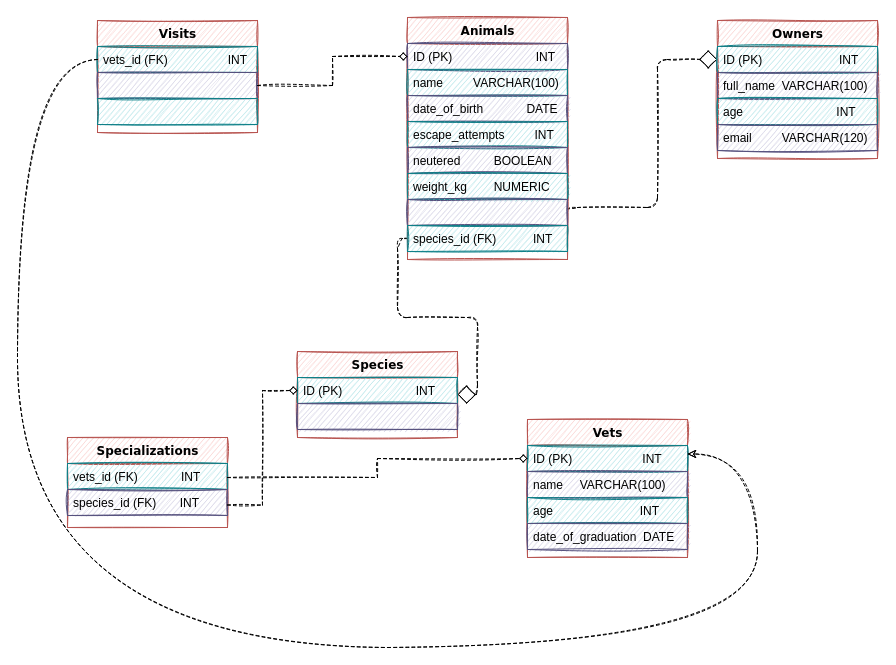
Image size: 896x665. Some labels were removed from this diagram. The centre of each missing label's shape, as x and y in pixels:
animals_id (FK) INT: point 177,85
date_of_visit DATE: point 177,111
name VARCHAR(50): point 377,416
owner_id (FK) INT: point 487,212
